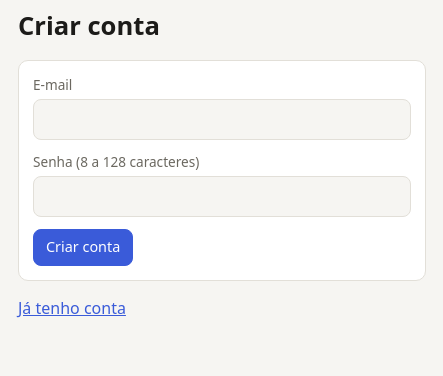
Test: /cadastro › mostra a mensagem de conflito da API
This screenshot has width=443, height=376.
In the field labelled "E-mail": (222, 119) left=33, top=99, right=411, bottom=140, type "maria@exemplo.com"
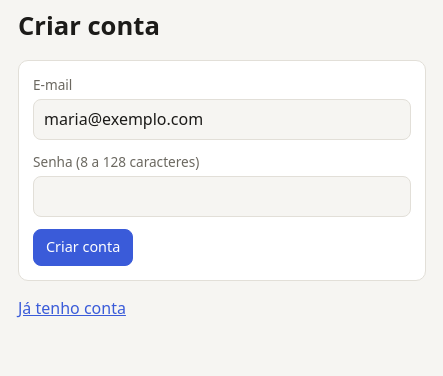
In the password field labelled "Senha (8 a 128 caracteres)": (222, 196) left=33, top=176, right=411, bottom=217, type "segredo123"
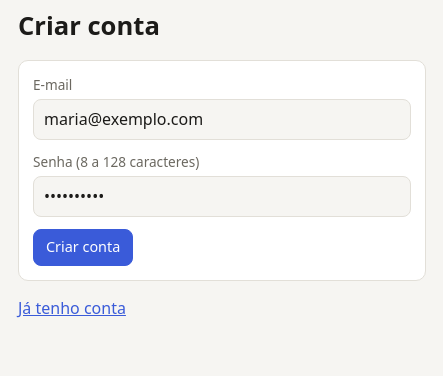
Click the button "Criar conta": (83, 247) left=33, top=229, right=133, bottom=266
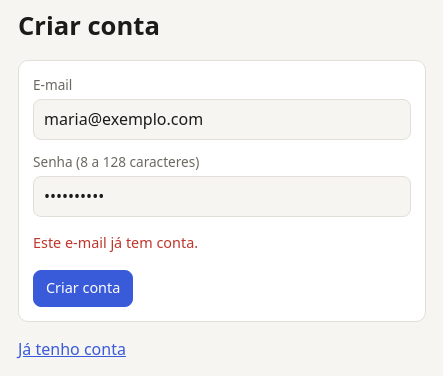
Expected: the message reads "Este e-mail já tem conta.", left=33, top=233, right=198, bottom=252
